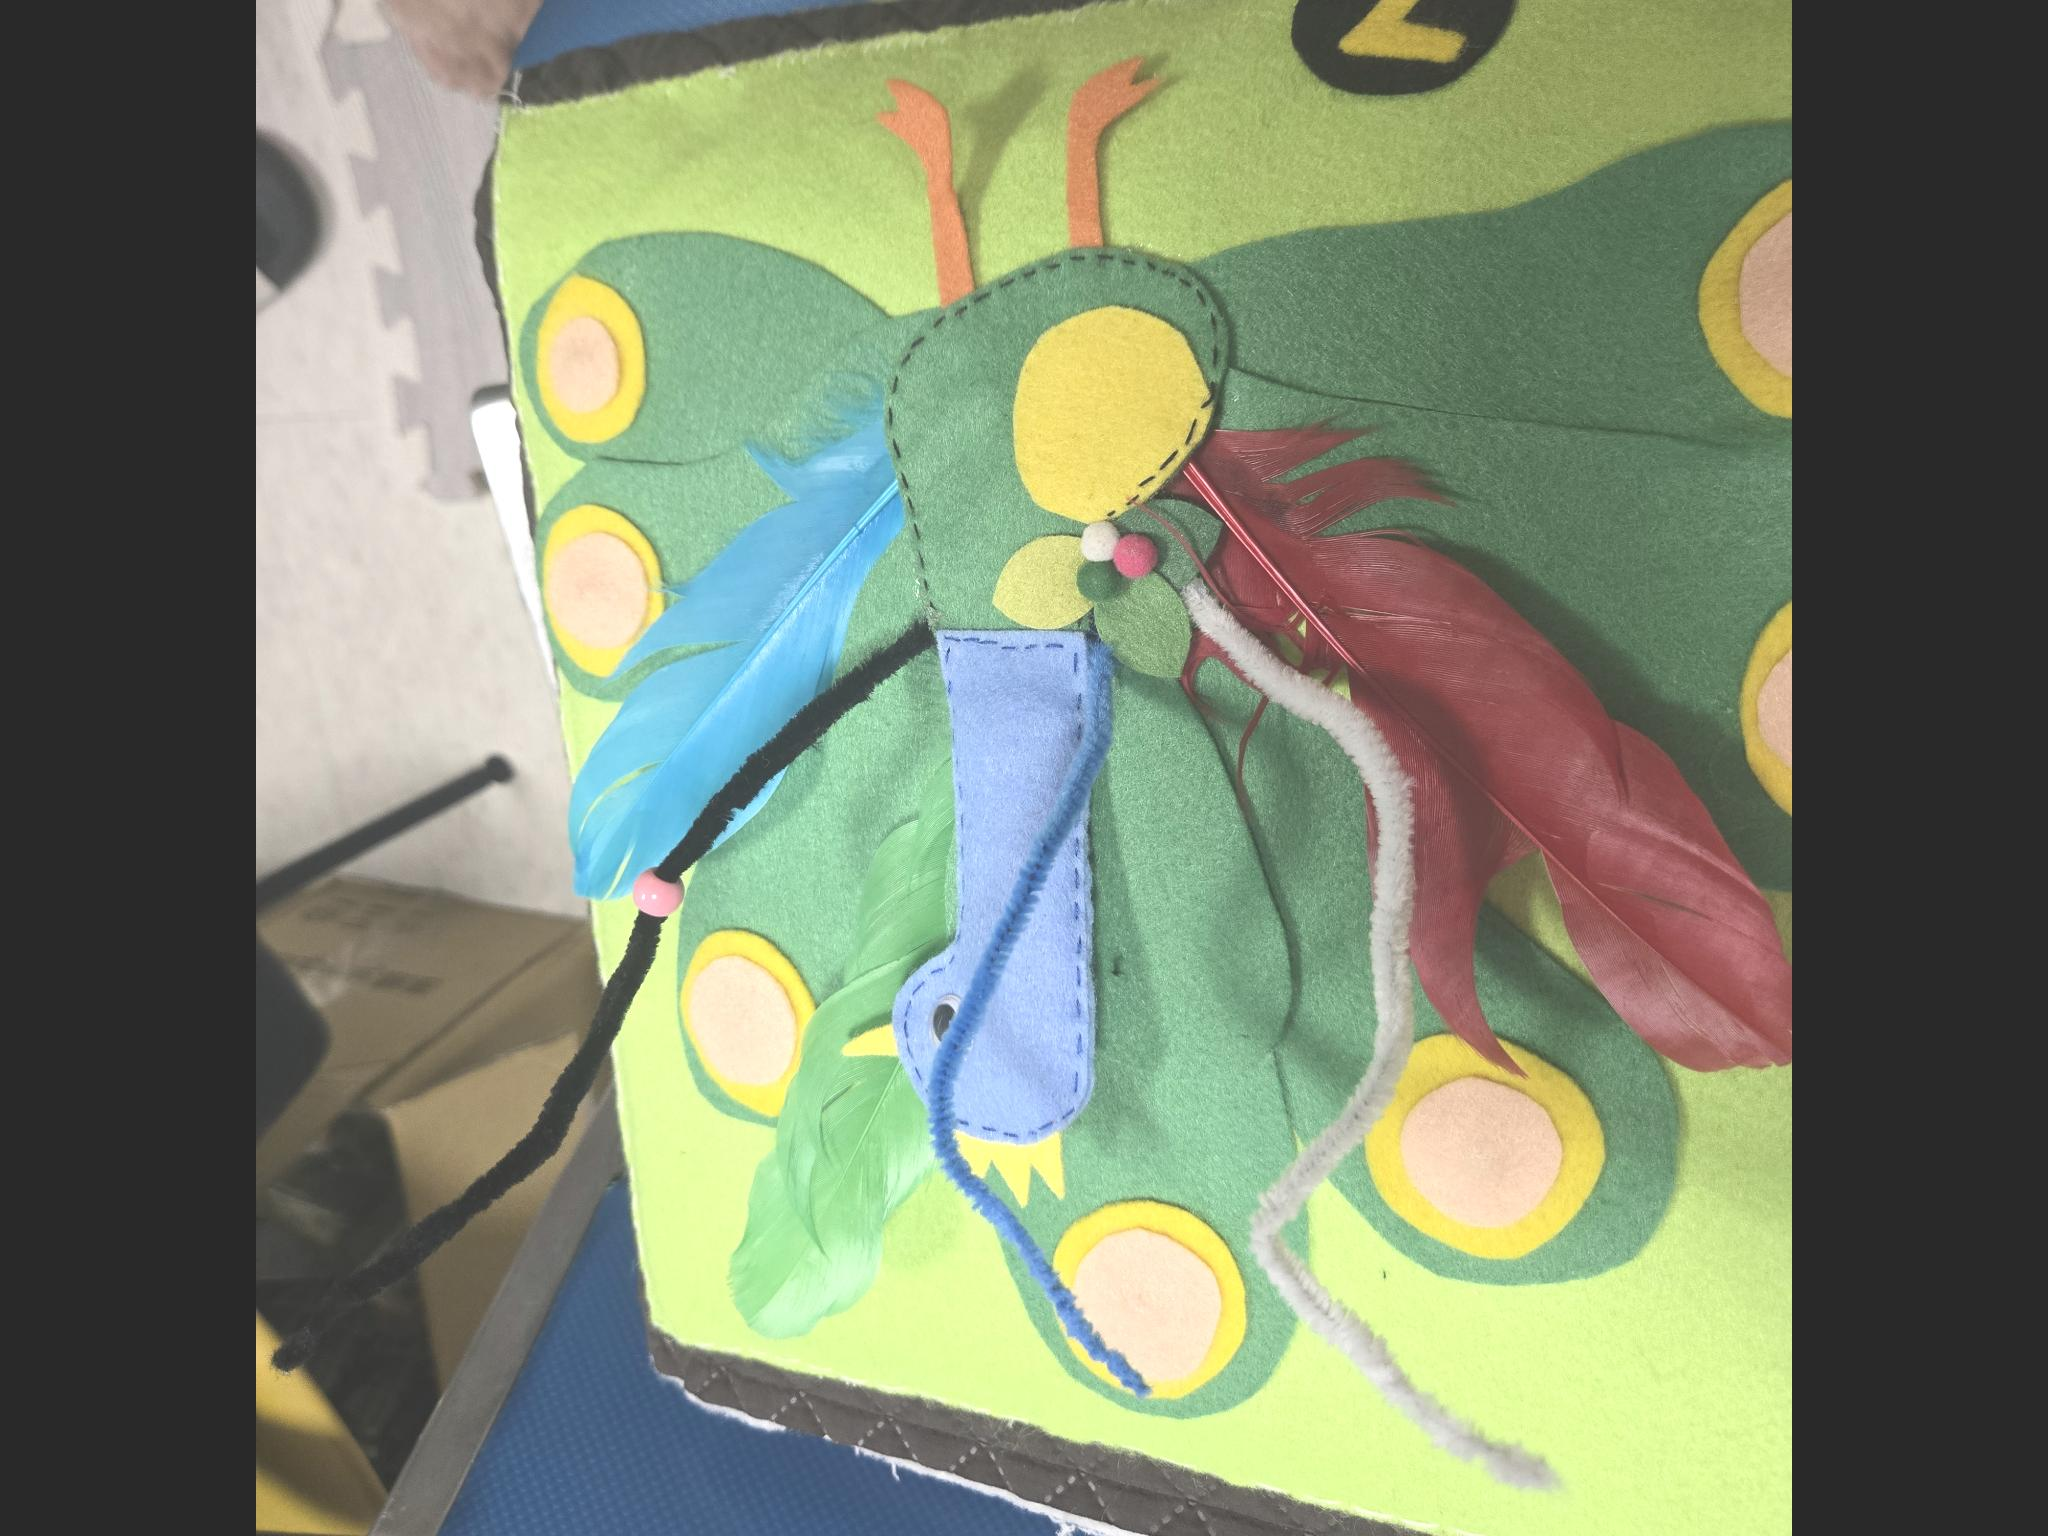bead: (621, 860, 703, 923)
